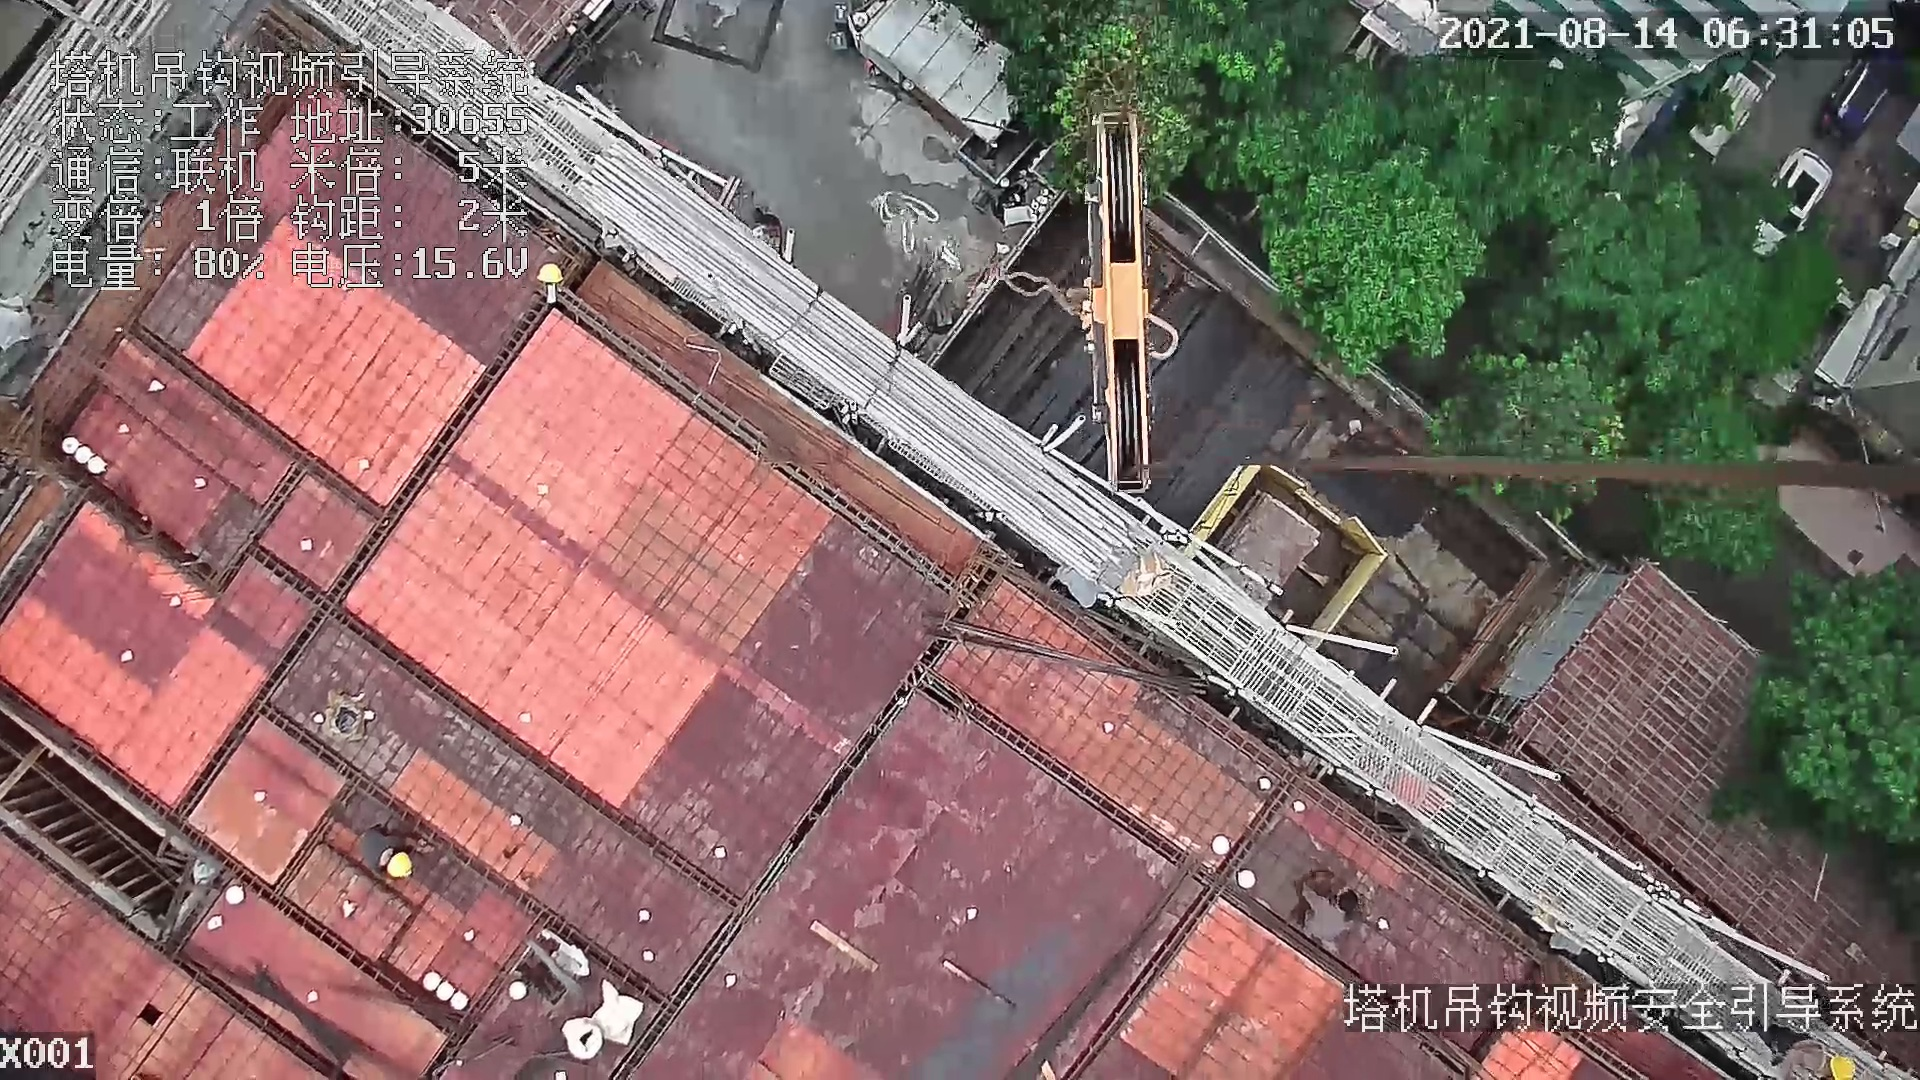helmet: (385, 850, 415, 881), (536, 259, 565, 285)
hook: (1077, 109, 1172, 496)
person: (354, 823, 428, 882)
